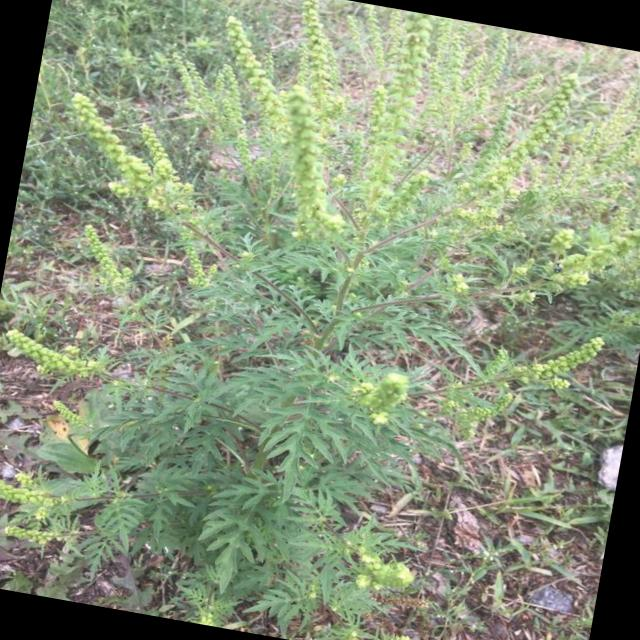ambrosia: (1, 55, 336, 342), (323, 179, 640, 477), (175, 0, 479, 265), (0, 292, 215, 583), (190, 378, 392, 612), (470, 44, 596, 222)
